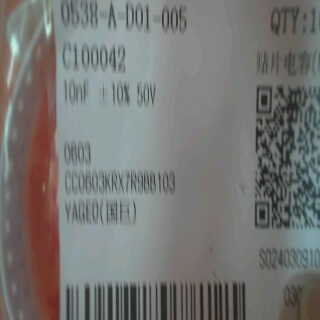10nF: (60, 75, 94, 109)
